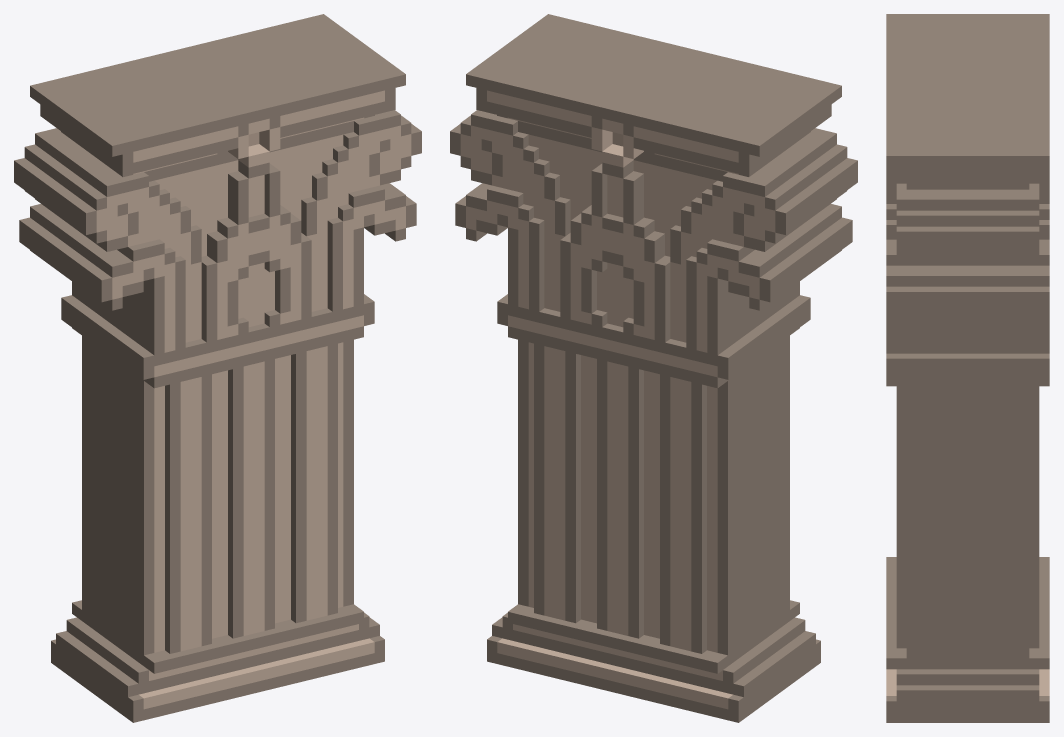
Rendered from CompositePillar.fbx.
The picture shows the model from 3 angles, left to right: view 1: azimuth 30°, elevation 25°; view 2: azimuth 150°, elevation 25°; view 3: azimuth 270°, elevation 25°; orthographic projection.
Parts seen in each view (by area): view 1: generated; view 2: generated; view 3: generated.
Part boxes in pixels (x1,y1,x2,y2): generated: (14, 14, 421, 722); generated: (450, 14, 857, 722); generated: (886, 14, 1049, 722).
Bounding box in the file's own units: 16 × 26.5 × 6.8.
